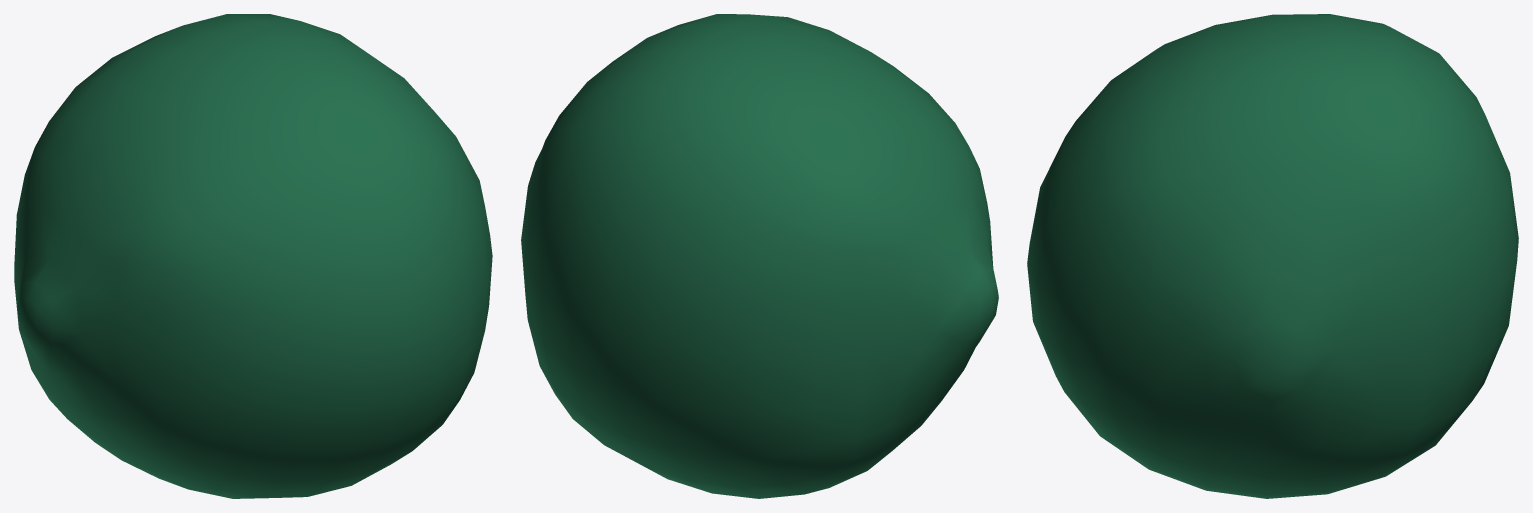
File: Lime_01.dae
The picture shows the model from 3 angles, left to right: view 1: azimuth 30°, elevation 25°; view 2: azimuth 150°, elevation 25°; view 3: azimuth 270°, elevation 25°; orthographic projection. The views are drawn at different scales.
Visible parts, largest first — view 1: Lime_01_LOD0; view 2: Lime_01_LOD0; view 3: Lime_01_LOD0.
Boxes of the visible parts, x1,y1,x2,y2 form: Lime_01_LOD0: (14,14,492,498); Lime_01_LOD0: (521,14,998,498); Lime_01_LOD0: (1027,14,1518,498).
Size of what is drawn, in the model's own units: 2.74 by 2.53 by 2.52.
